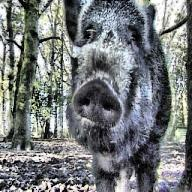boar: (60, 0, 172, 191)
